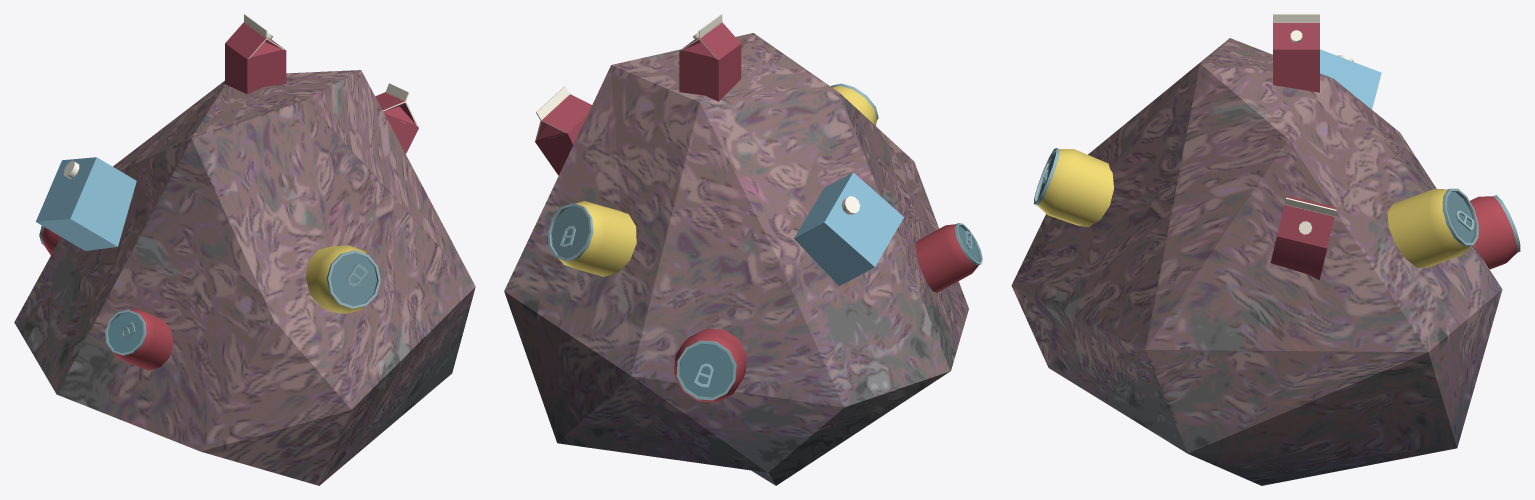
Rendered from TrashMound.fbx.
3 views of the same model, side by side, from view 1: azimuth 30°, elevation 25°; view 2: azimuth 150°, elevation 25°; view 3: azimuth 270°, elevation 25° (orthographic). The views are drawn at different scales.
Parts seen in each view (by area): view 1: pasted__juice_carton_6; view 2: pasted__juice_carton_6; view 3: pasted__juice_carton_6.
Boxes of the visible parts, x1=… form: pasted__juice_carton_6: x1=14, y1=14, x2=475, y2=485; pasted__juice_carton_6: x1=504, y1=14, x2=982, y2=485; pasted__juice_carton_6: x1=1011, y1=14, x2=1520, y2=485.
Size of the model in its own units: 2.82 by 2.91 by 3.15.
